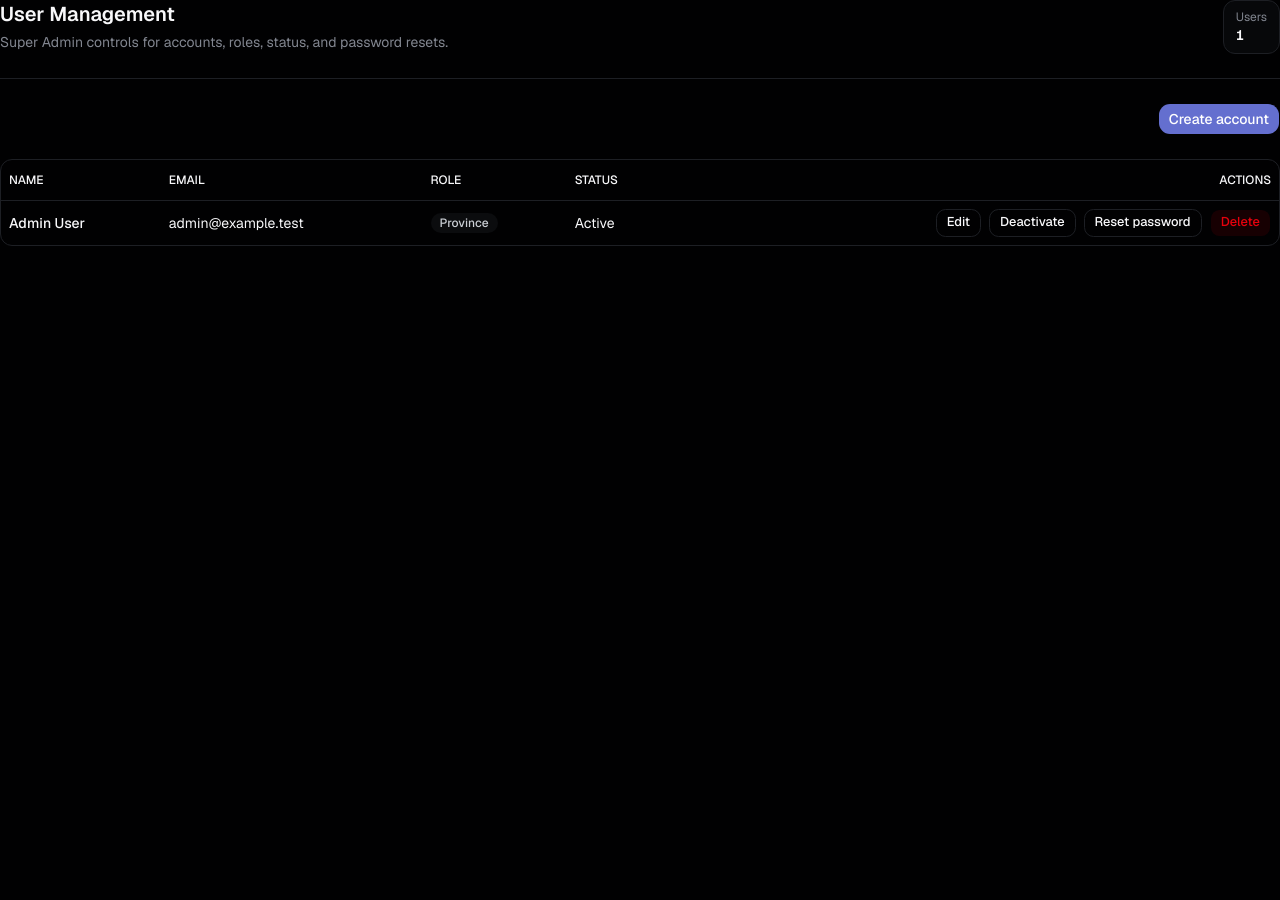
Test: UserManagementModule (J6) › shows password requirements on the create-account initial password field
The image size is (1280, 900).
Click the button "Create account" at (1219, 119), box [1158, 103, 1279, 135]
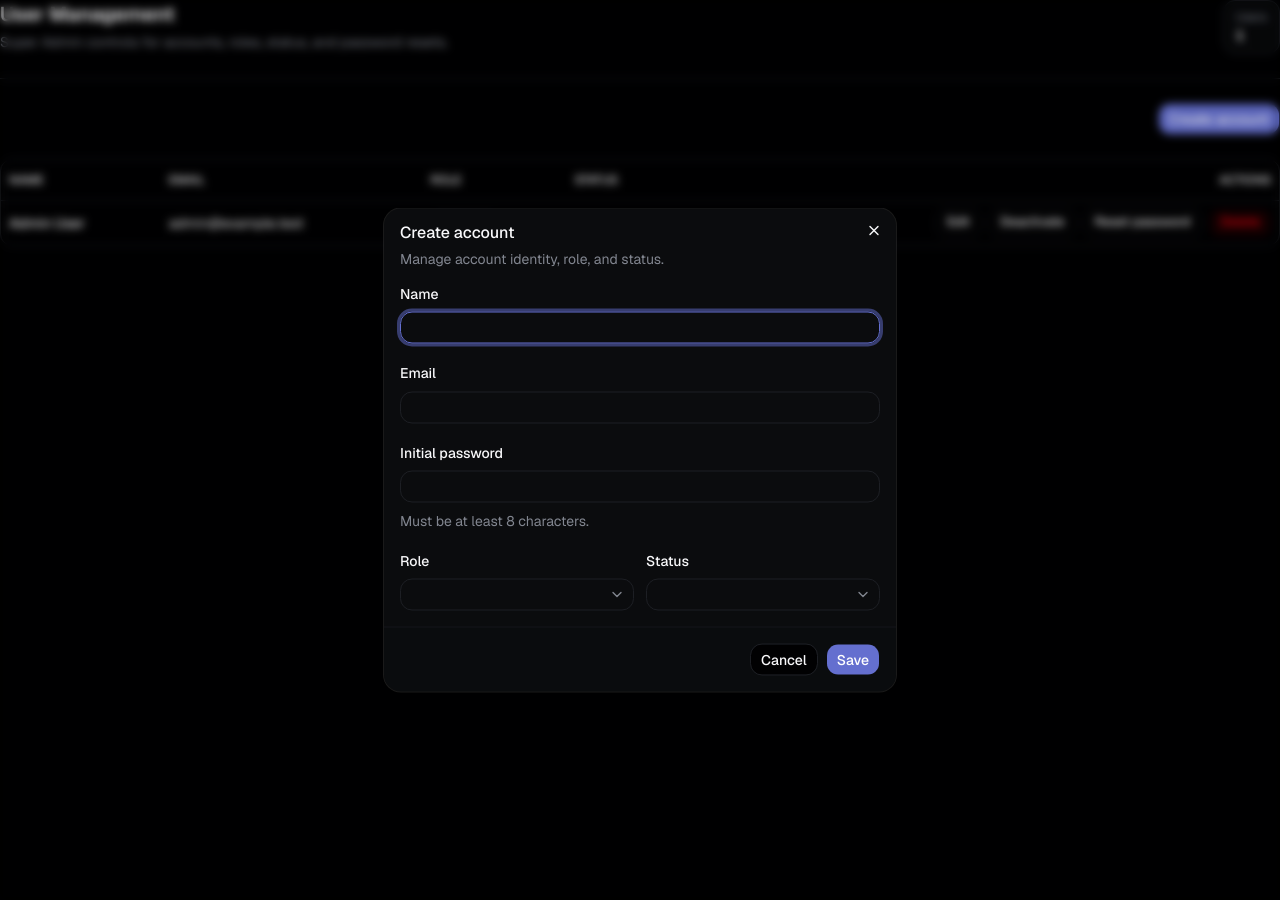
Expected: the text "Must be at least 8 characters." is shown, [400, 511, 589, 529]
